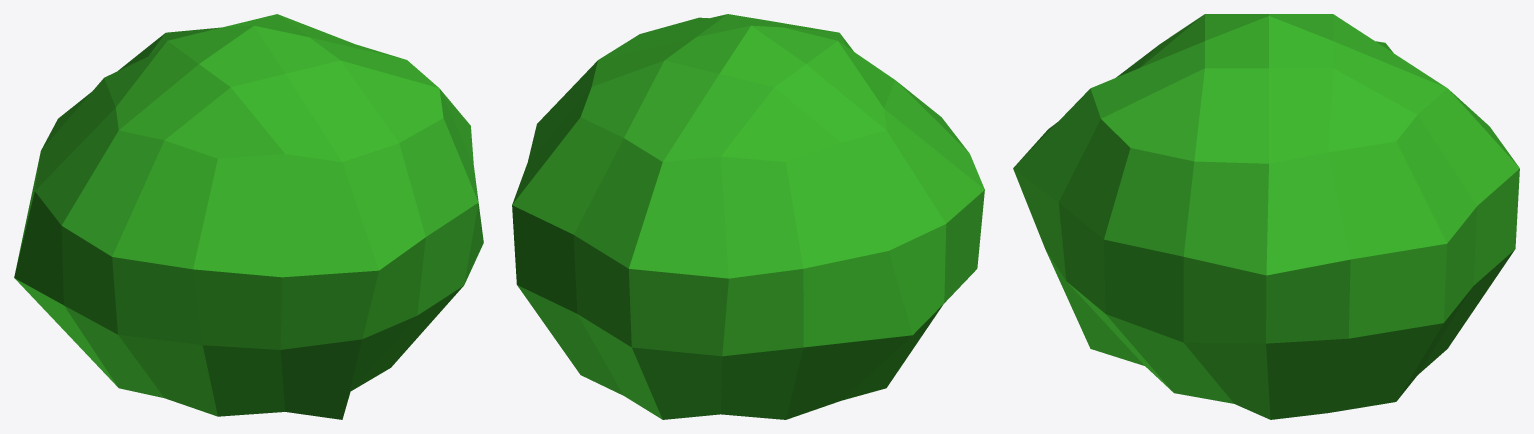
Rendered from krzak1.fbx.
The picture shows the model from 3 angles, left to right: view 1: azimuth 30°, elevation 25°; view 2: azimuth 150°, elevation 25°; view 3: azimuth 270°, elevation 25°; orthographic projection.
Visible parts, largest first — view 1: Cube; view 2: Cube; view 3: Cube.
Part boxes in pixels (bbox=[...]): Cube: bbox=[14, 14, 483, 419]; Cube: bbox=[512, 14, 984, 419]; Cube: bbox=[1013, 14, 1519, 419].
Bounding box in the file's own units: 272 × 206 × 284.
